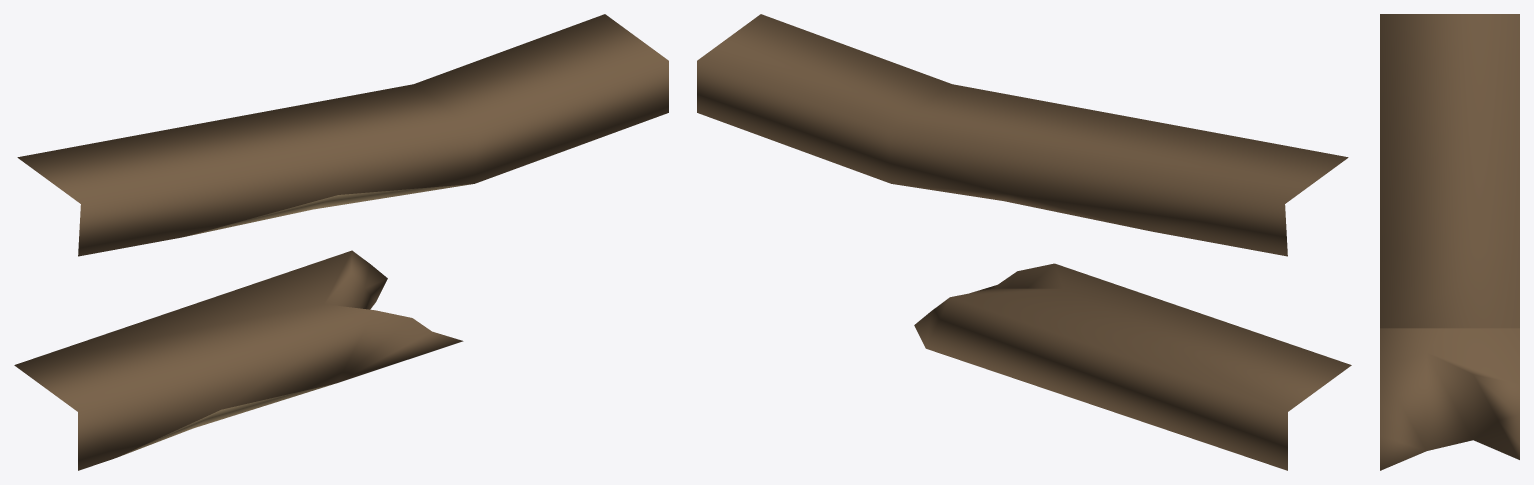
The model's file is rpgpp_av_wall_beam_08_3x3.gltf.
3 renders of one model, left to right at view 1: azimuth 30°, elevation 25°; view 2: azimuth 150°, elevation 25°; view 3: azimuth 270°, elevation 25°, orthographic. The views are drawn at different scales.
Parts seen in each view (by area): view 1: rpgpp_av_wall_beam_08_3x3; view 2: rpgpp_av_wall_beam_08_3x3; view 3: rpgpp_av_wall_beam_08_3x3.
Boxes of the visible parts, left/top/right/bottom form: rpgpp_av_wall_beam_08_3x3: left=14, top=14, right=668, bottom=470; rpgpp_av_wall_beam_08_3x3: left=697, top=14, right=1351, bottom=470; rpgpp_av_wall_beam_08_3x3: left=1380, top=14, right=1519, bottom=470.
Bounding box in the file's own units: 0.03 × 0.0129 × 0.00562.
Materials: 1 (1 with a texture image).
